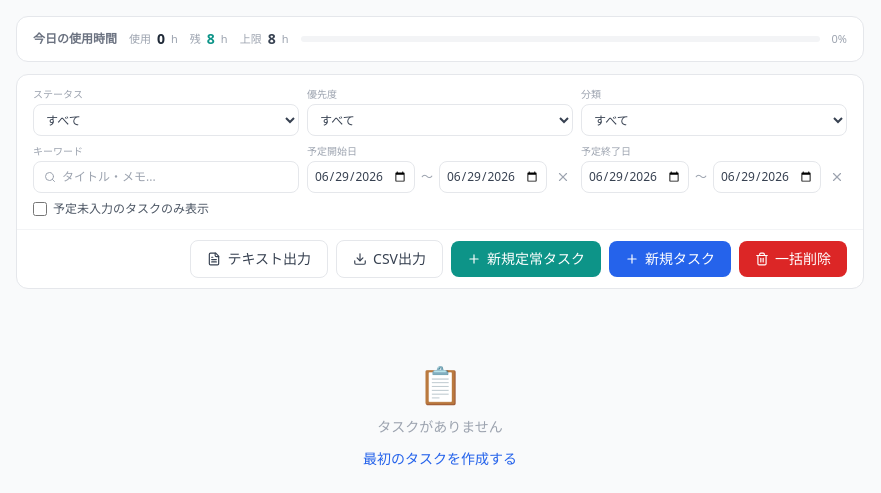
Test case: Phase4 TaskListPage bulk selection DOM › TC-CB-273 TD095 TV095 TA019 R017 TaskListPage updates count when one task is selected
The width and height of the screenshot is (881, 493).
What coordinates should you click on to do the following:
click the button named "予定開始日フィルタをクリア"
I would click on:
 (563, 177)
Its box is [553,161,573,193].
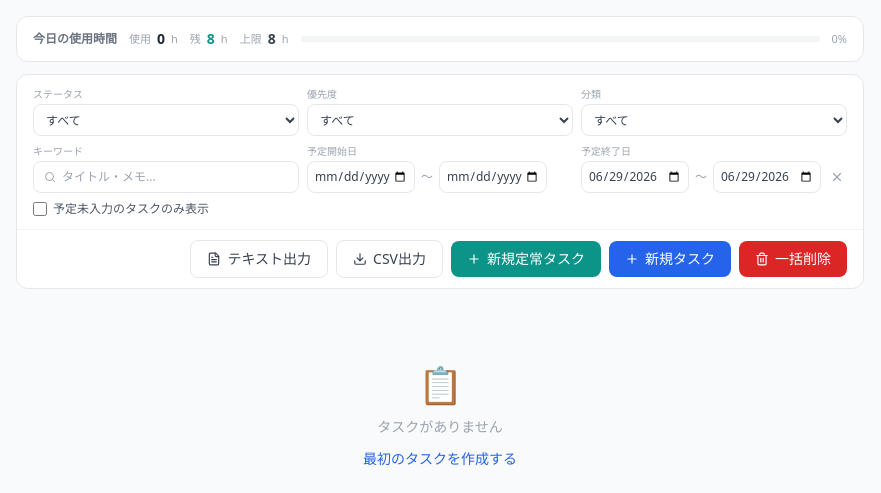
What coordinates should you click on to do the following:
click the button named "予定終了日フィルタをクリア"
I would click on:
 (837, 177)
Its box is [827,161,847,193].
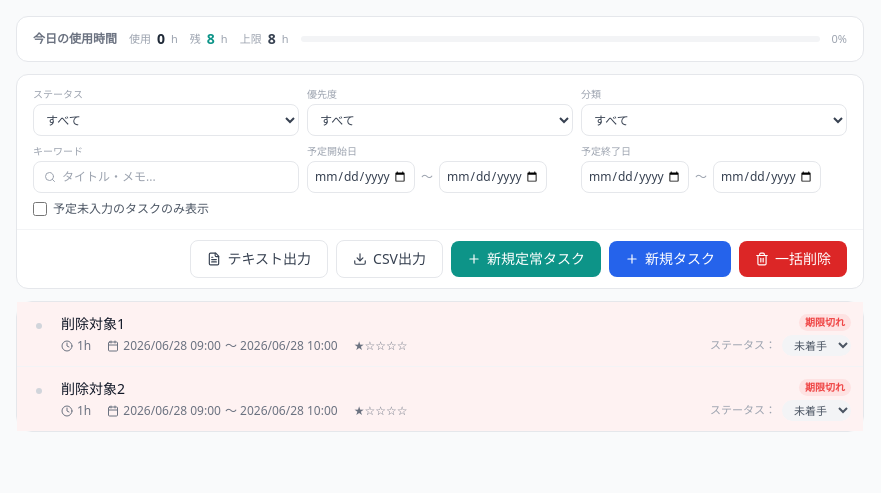
What coordinates should you click on to do the following:
click the button "一括削除"
I would click on:
 (793, 259)
Its box is [739,241,847,277].
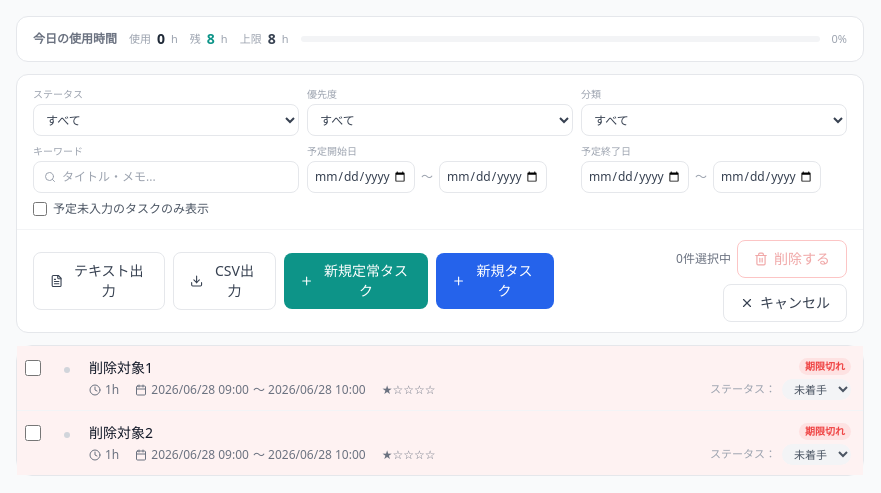
What coordinates should you click on to do the following:
click the checkbox next to "削除対象1"
I would click on:
 (33, 368)
Its box is [25,360,41,376].
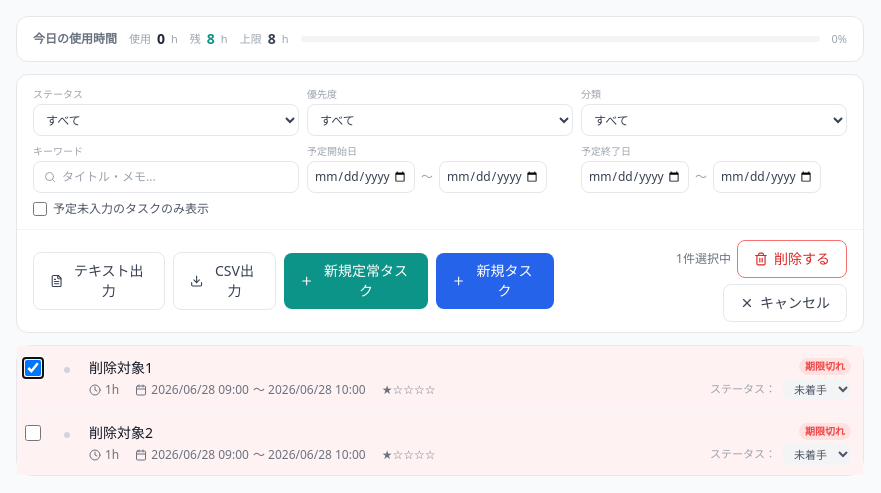
Check: the text "1件選択中" is shown, box [676,251,731,267]
Check: the button "削除する" is enabled, box [737,240,847,278]
